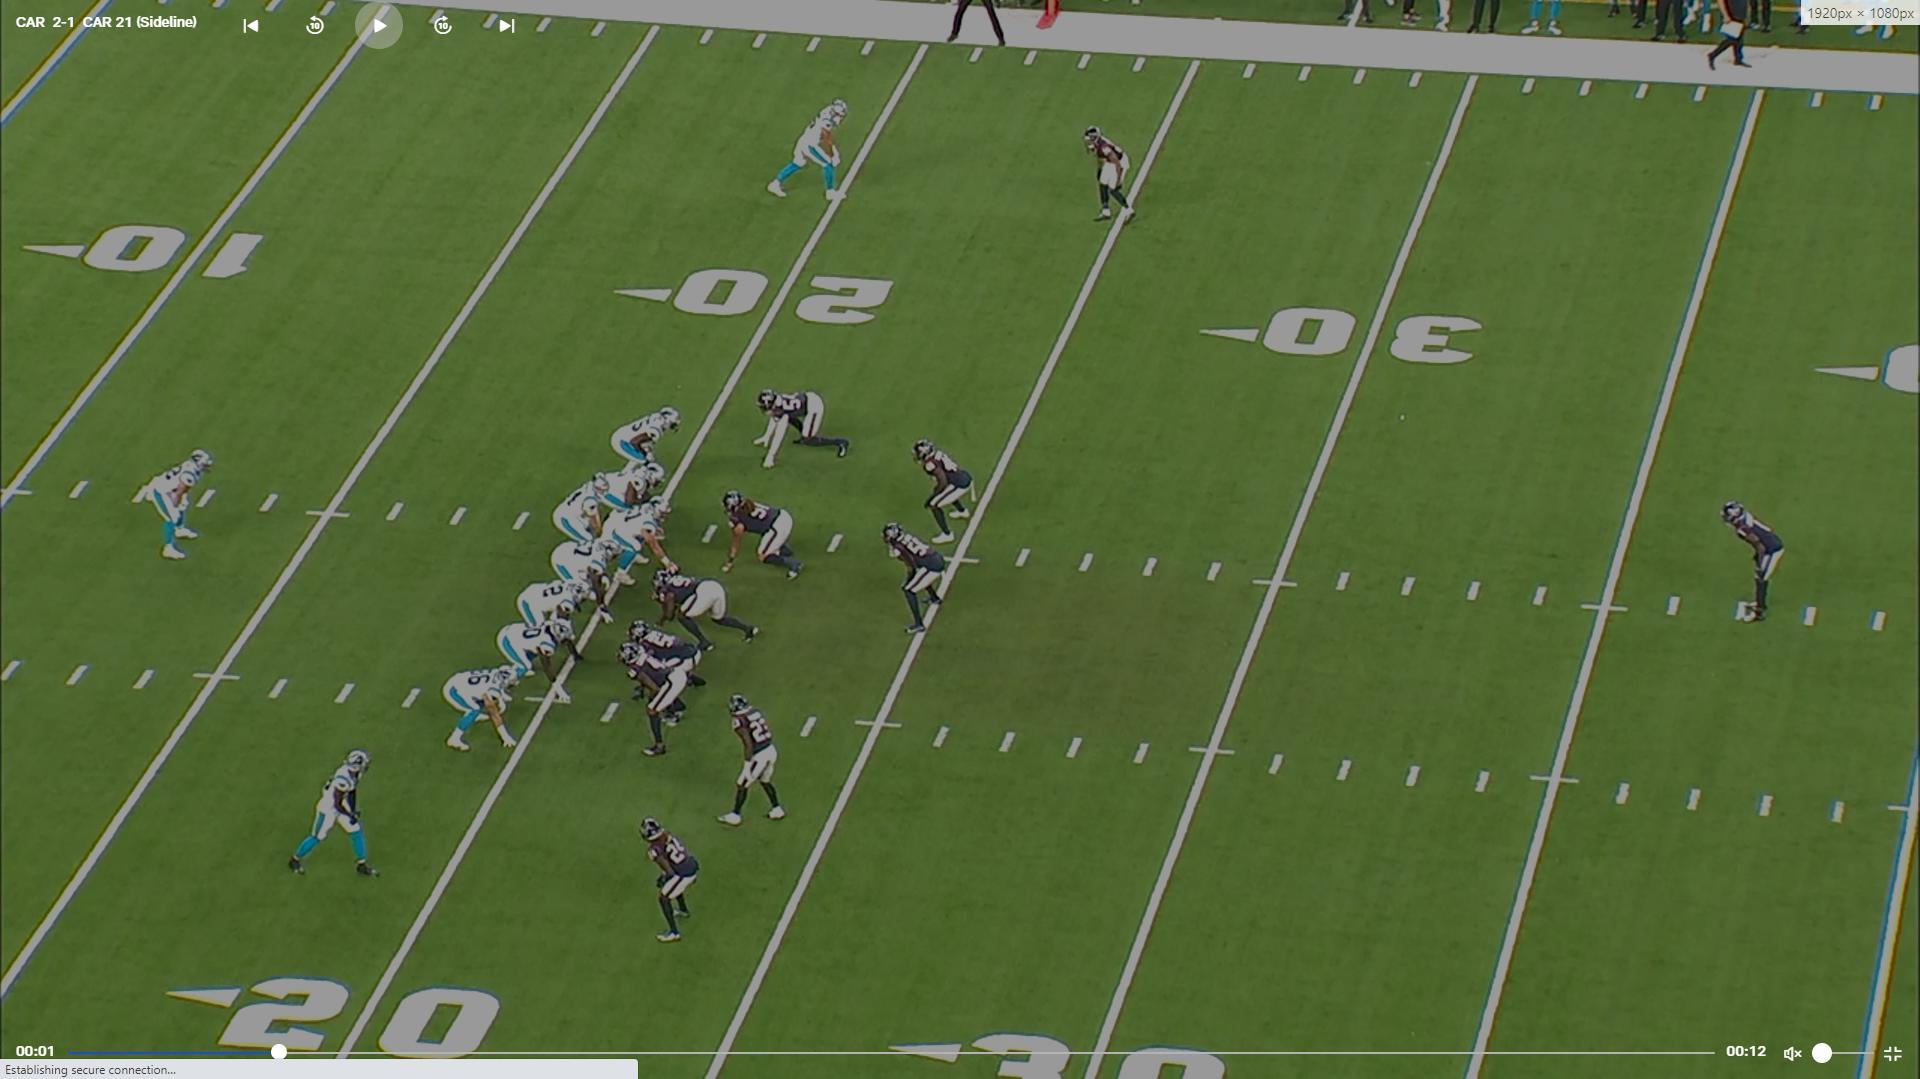player: (279, 748, 378, 888), (768, 95, 860, 205), (720, 693, 792, 832), (655, 565, 765, 651), (620, 634, 690, 763), (149, 442, 223, 562), (1717, 497, 1785, 626), (634, 813, 700, 944), (710, 486, 799, 579), (755, 385, 856, 466), (440, 664, 525, 758), (879, 522, 946, 640), (601, 500, 679, 590), (495, 618, 577, 703), (517, 575, 597, 662), (1076, 120, 1138, 229), (917, 436, 978, 542), (622, 618, 703, 697), (549, 540, 623, 626), (554, 471, 619, 549), (611, 407, 684, 469), (597, 460, 673, 515)
